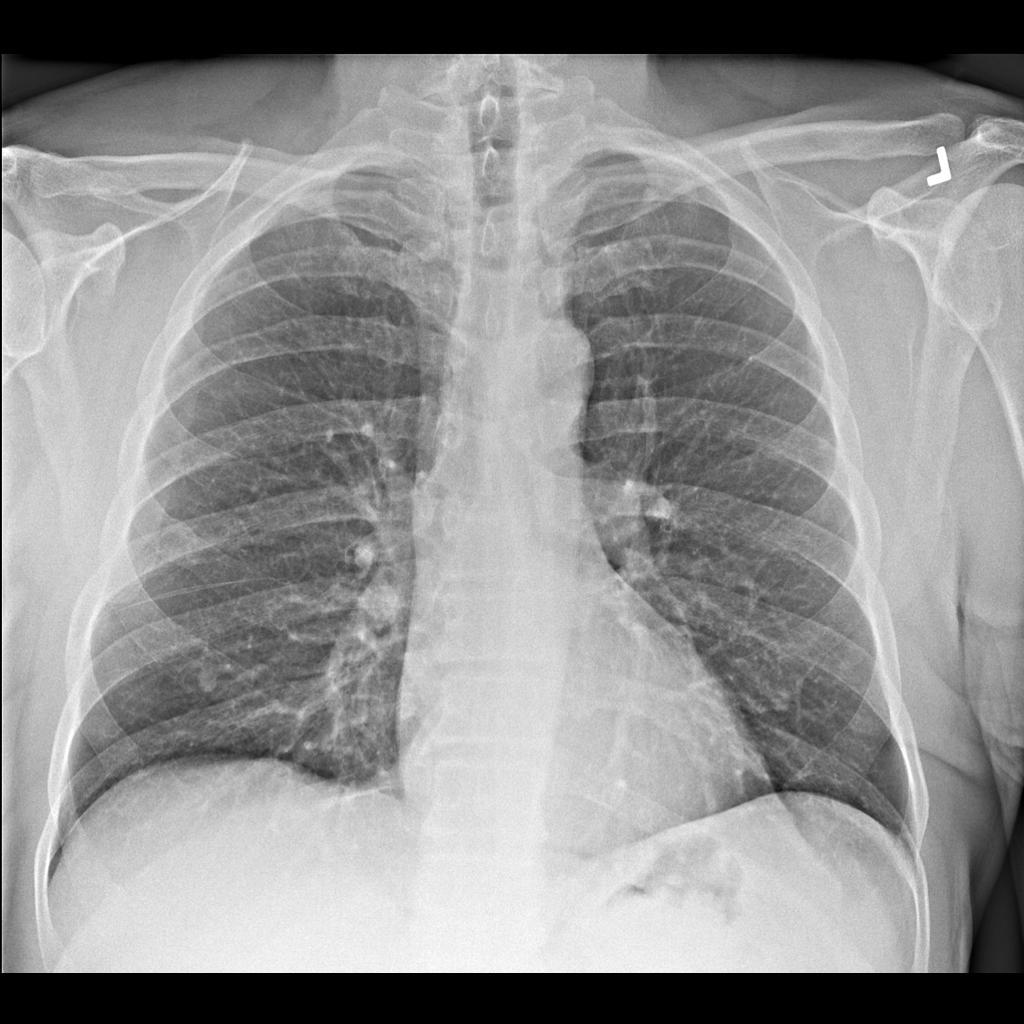Nodule: (198, 672, 221, 695)
